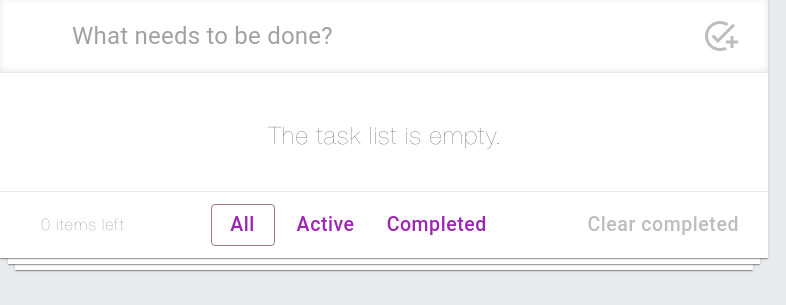
Test: MainComponent › clearCompletedTasks removes completed tasks
The width and height of the screenshot is (786, 305).
Type "Task 1" into the field with test id "add task input" at (384, 36), box top-left (72, 14), bottom-right (696, 58)
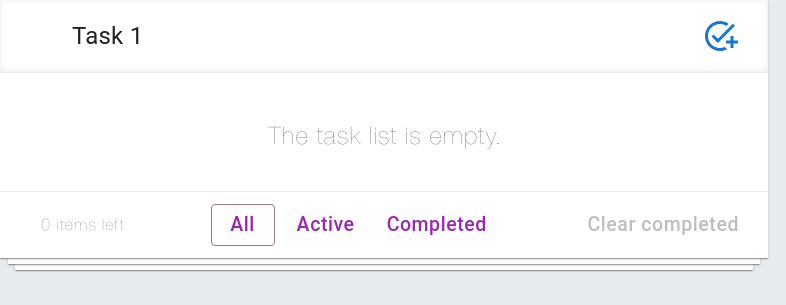
Click the button with test id "add task button" at (720, 36), box top-left (696, 12), bottom-right (744, 60)
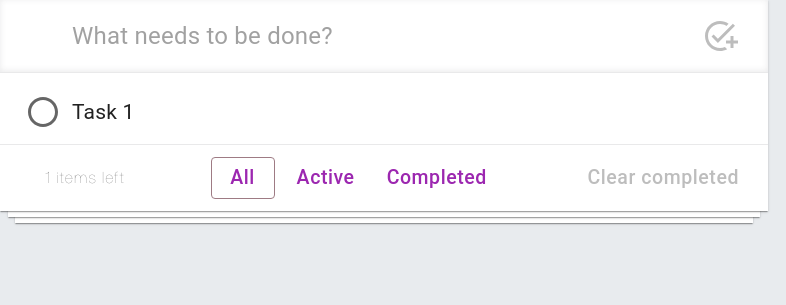
Type "Task 2" into the field with test id "add task input" at (384, 36), box top-left (72, 14), bottom-right (696, 58)
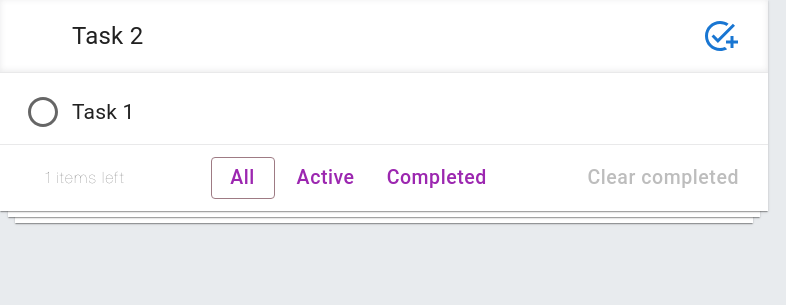
Click the button with test id "add task button" at (720, 36), box top-left (696, 12), bottom-right (744, 60)
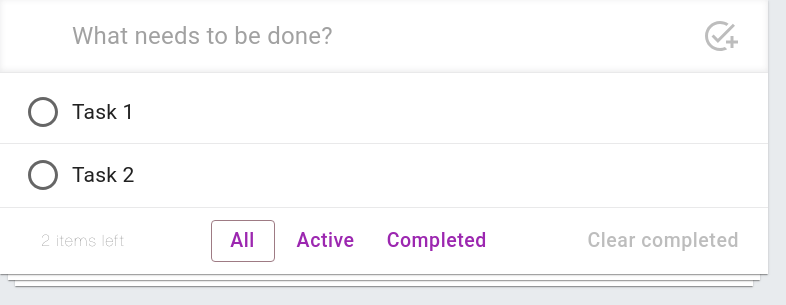
Click the text "Task 1" at (103, 112), box top-left (72, 100), bottom-right (135, 124)
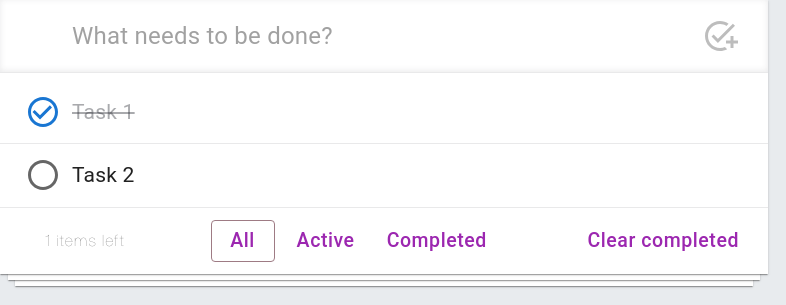
Click the button "Clear completed" at (663, 241), box top-left (582, 220), bottom-right (744, 262)
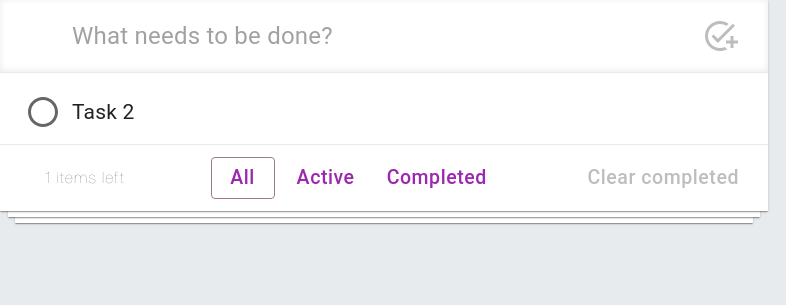
Check: the text "Task 2" is shown, box top-left (72, 100), bottom-right (135, 124)
Check: the text "Task 1" is gone
